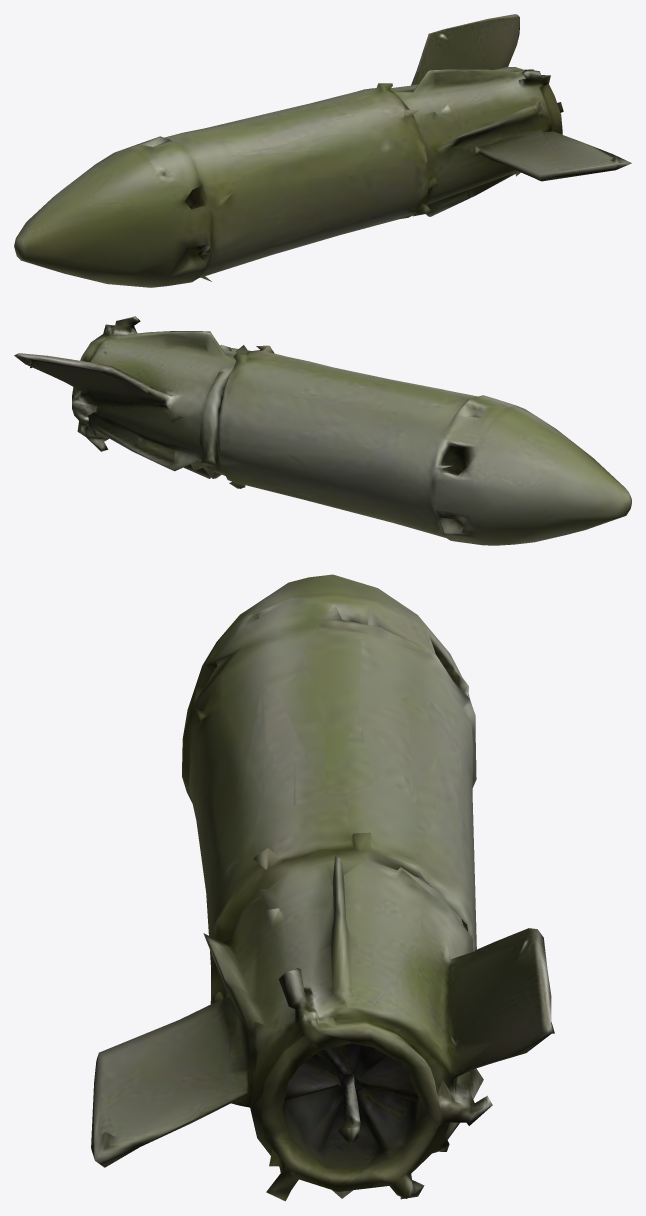
Rendered from fx_rocket.glb.
The picture shows the model from 3 angles, top to bottom: view 1: azimuth 30°, elevation 25°; view 2: azimuth 150°, elevation 25°; view 3: azimuth 270°, elevation 25°; orthographic projection. The views are drawn at different scales.
Parts seen in each view (by area): view 1: tripo_node_2ffd07fc-e31c-4016-952d-0735abf139ab; view 2: tripo_node_2ffd07fc-e31c-4016-952d-0735abf139ab; view 3: tripo_node_2ffd07fc-e31c-4016-952d-0735abf139ab.
Part boxes in pixels (x1,y1,x2,y2): tripo_node_2ffd07fc-e31c-4016-952d-0735abf139ab: (14,14,631,287); tripo_node_2ffd07fc-e31c-4016-952d-0735abf139ab: (14,316,631,545); tripo_node_2ffd07fc-e31c-4016-952d-0735abf139ab: (91,574,554,1201).
Size of the model in its own units: 1 by 0.2511 by 0.3575.
1 material, 1 textured.
